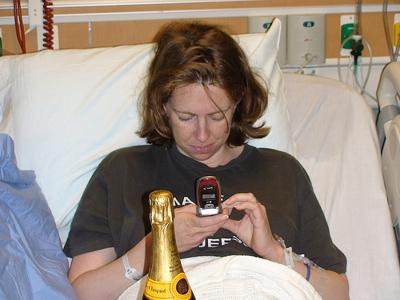person: (65, 20, 351, 300)
